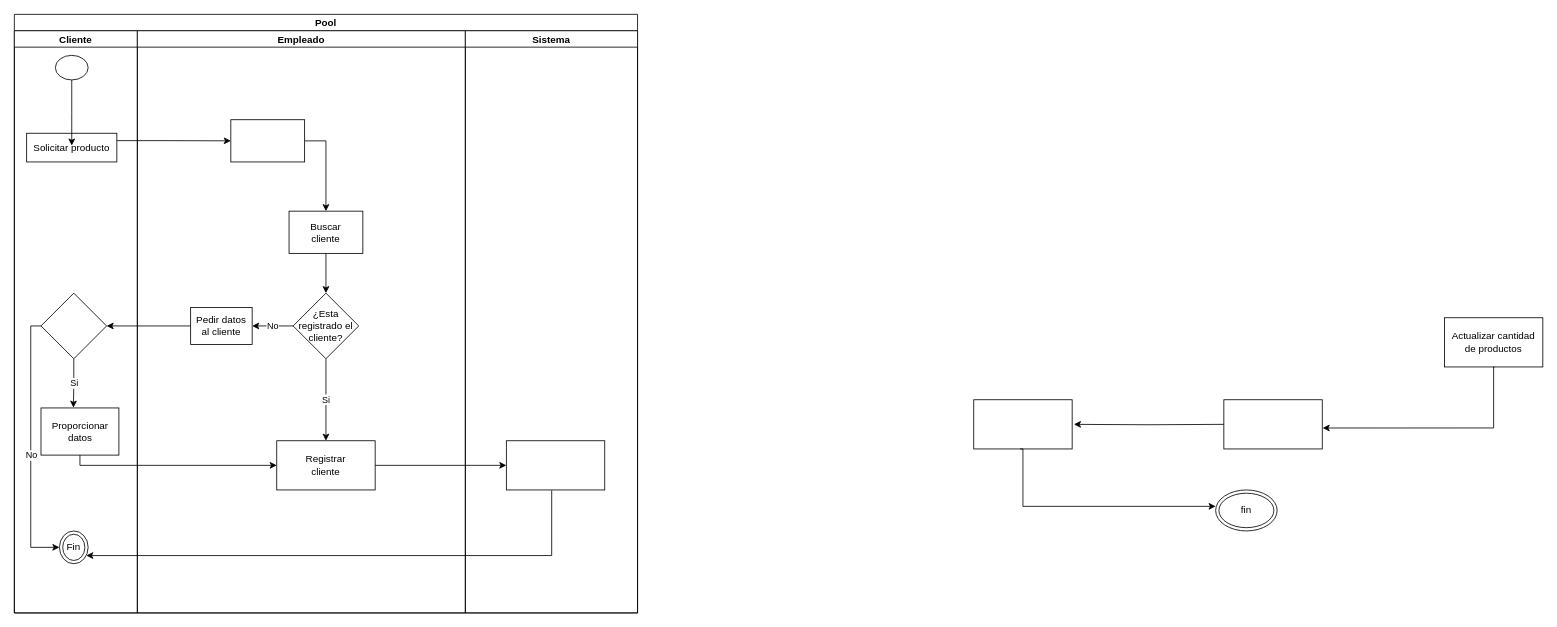
Image size: 1557x627. Some labels were removed from this diagram. The centre of each missing label's shape, as x and y in pixels:
Añadir cliente al sistema: [555,465]
Imprimir factura: [1272,424]
Ingresar al sistema: [267,140]
Inicio: [71,67]
Obtener factura: [1022,424]
¿Proporcionar datos?: [73,325]
